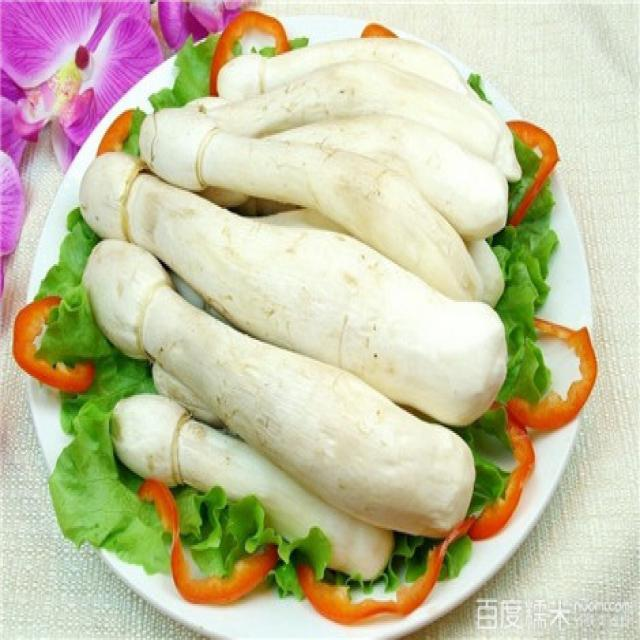Coprinus comatus: (85, 239, 476, 538), (83, 153, 511, 422), (141, 108, 480, 299), (112, 392, 393, 578), (210, 35, 470, 97)
